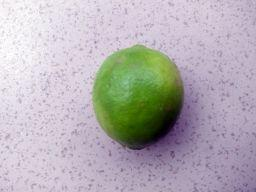lemon: (87, 32, 189, 151)
